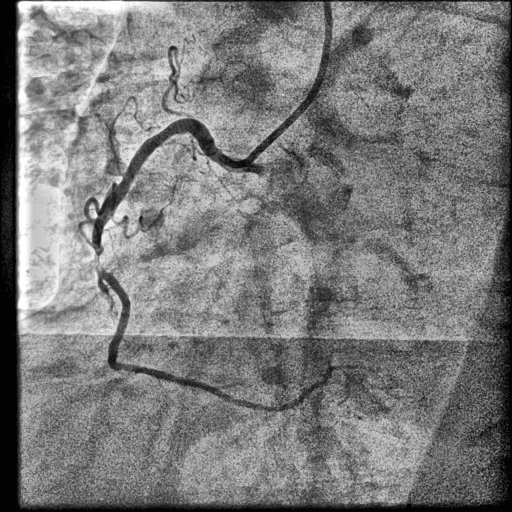rca: (92, 118, 331, 413)
